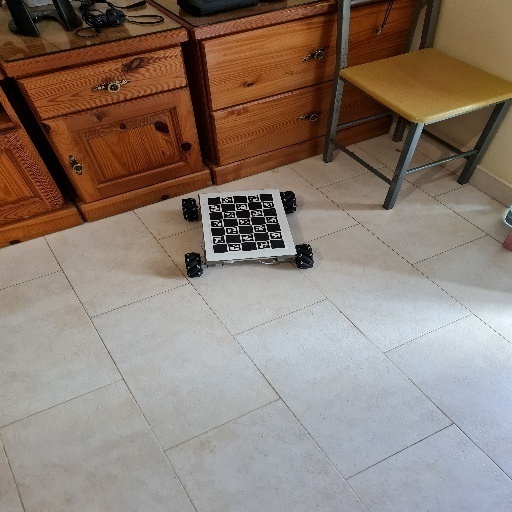Omniwheel: (182, 188, 315, 280)
